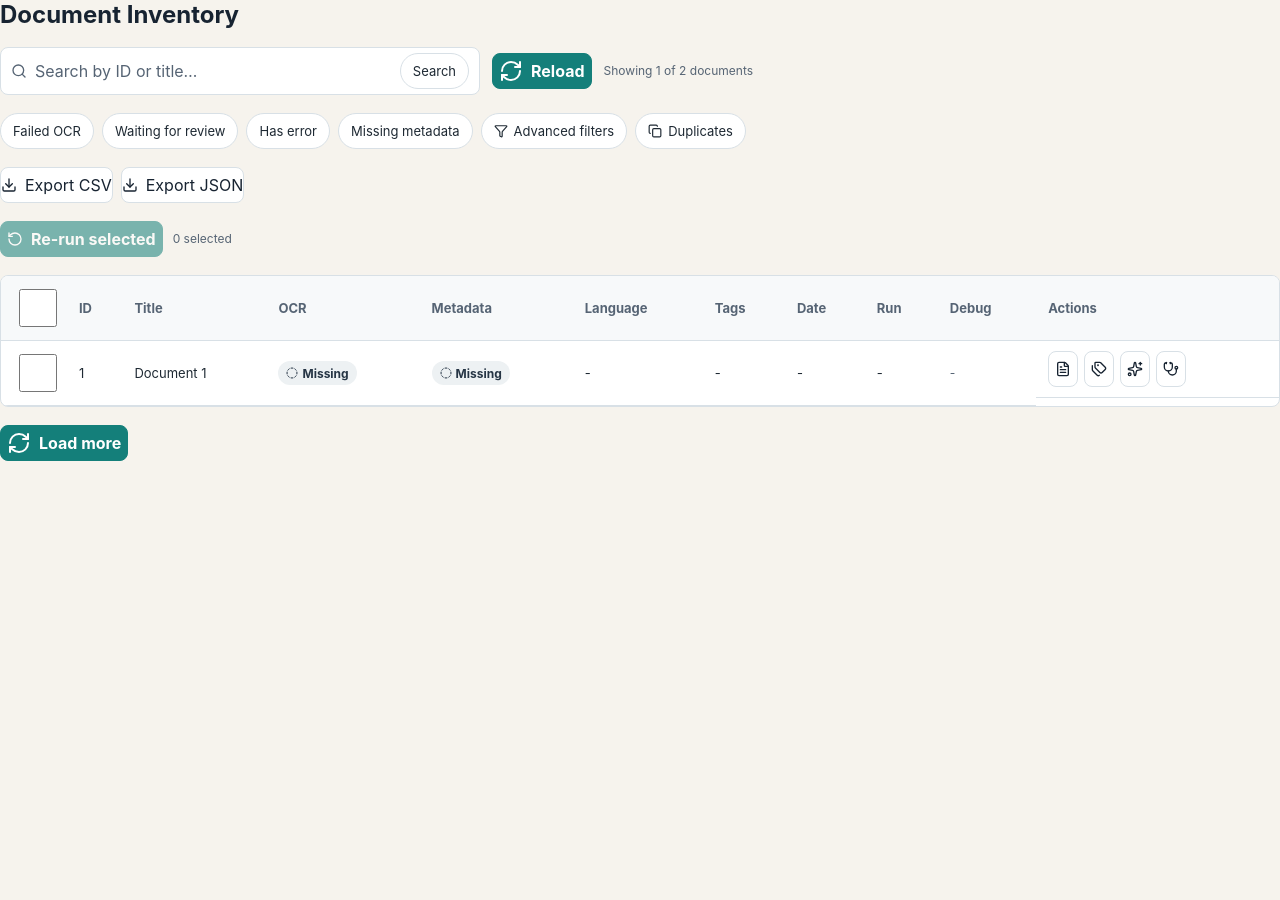
<Inventory> row actions and states › asks before a bulk re-run with the selected count (#417)
The image size is (1280, 900).
Click the checkbox named "Select document #1" at (38, 373), box [17,354,59,392]
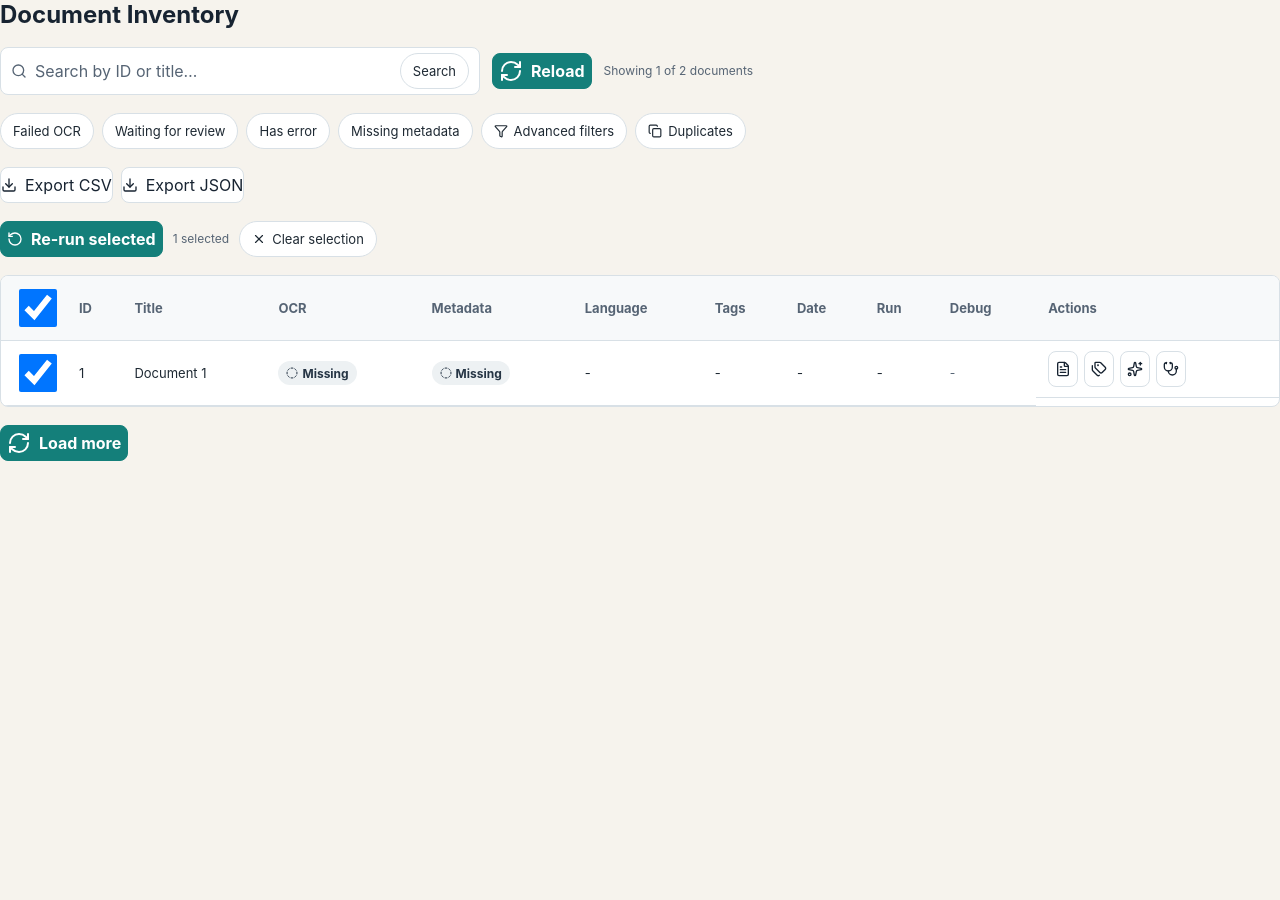
Click the button "Re-run selected" at (81, 239), box [0,221,163,257]
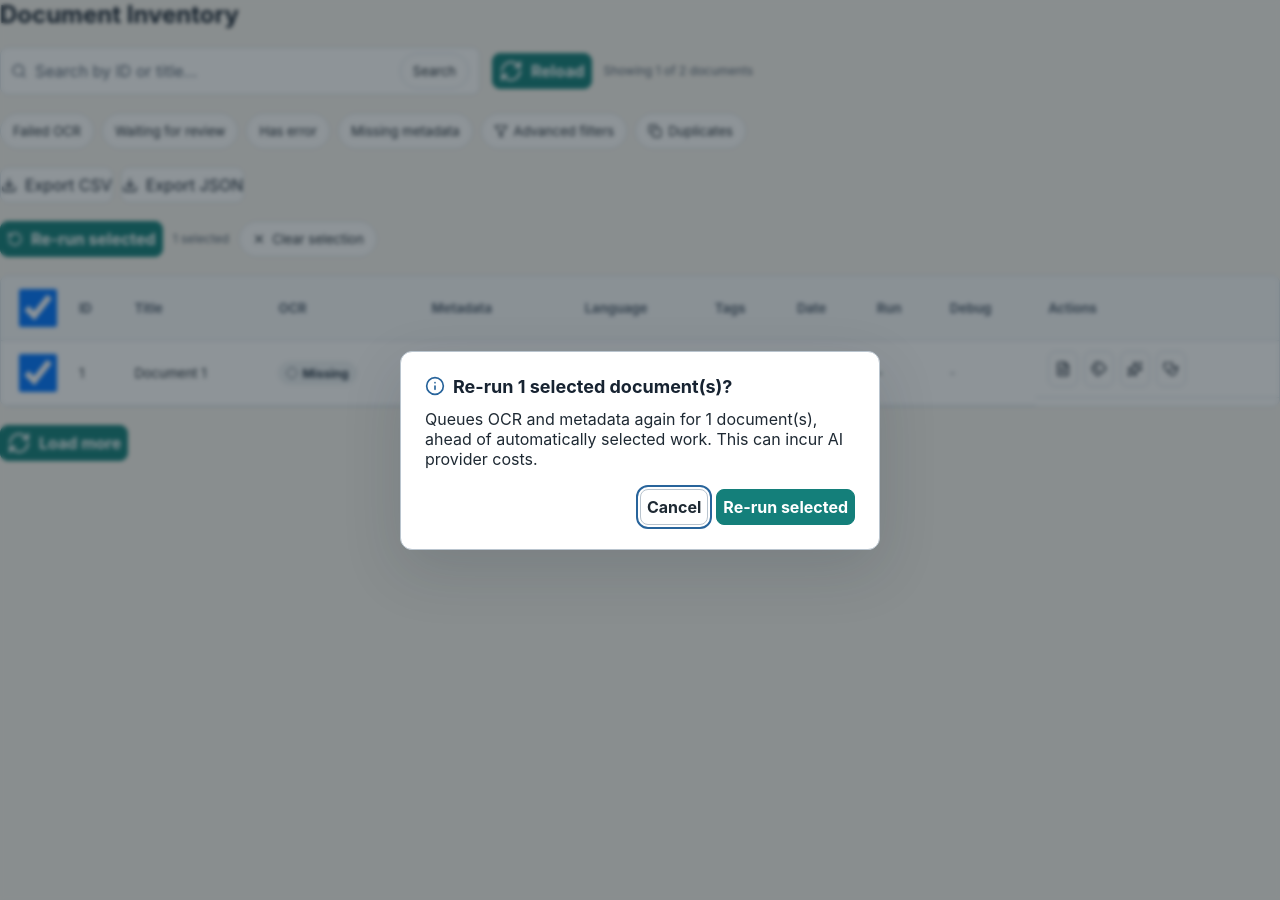
Click the button "Cancel" at (674, 506), box [640,488,708,524]
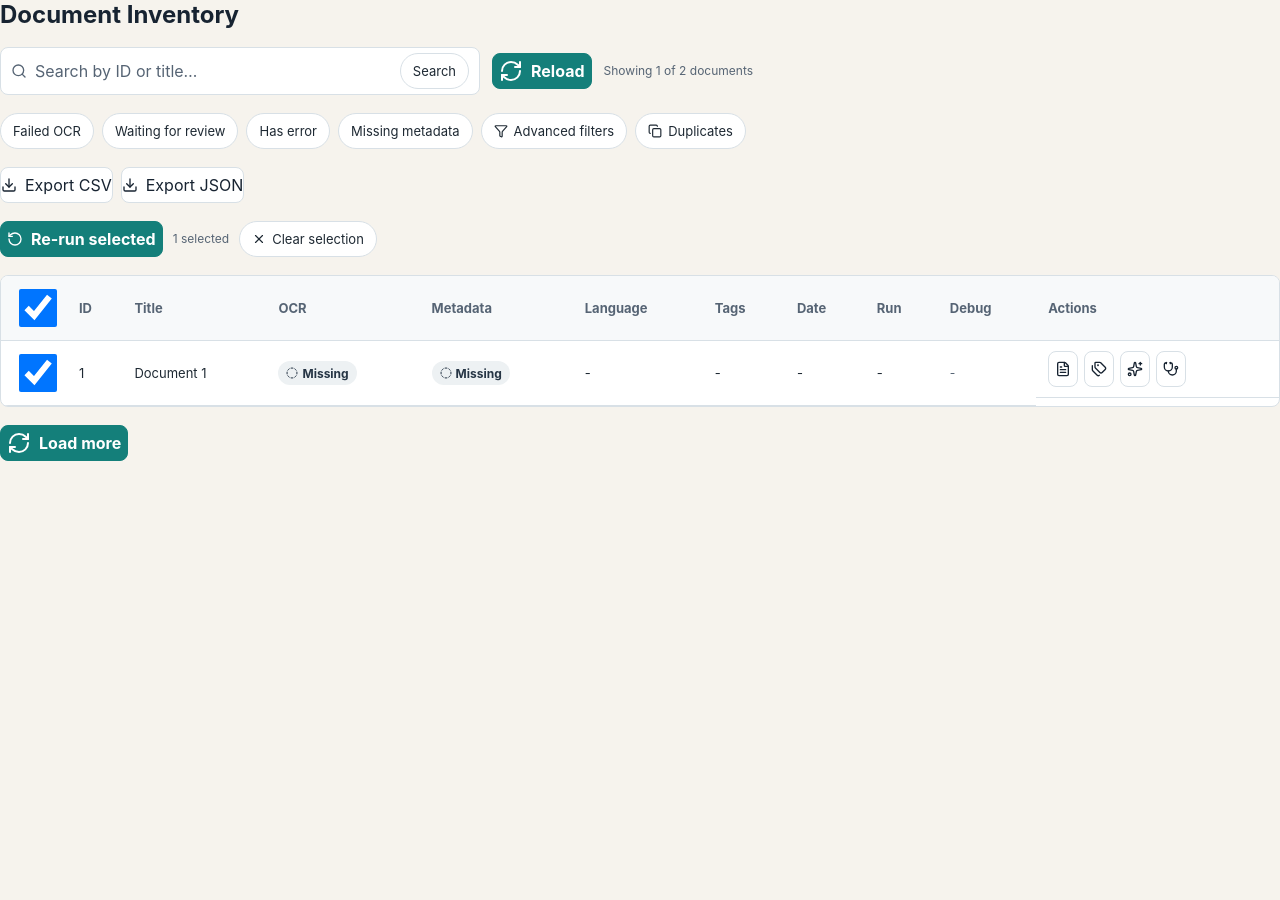
Result: the dialog is gone
